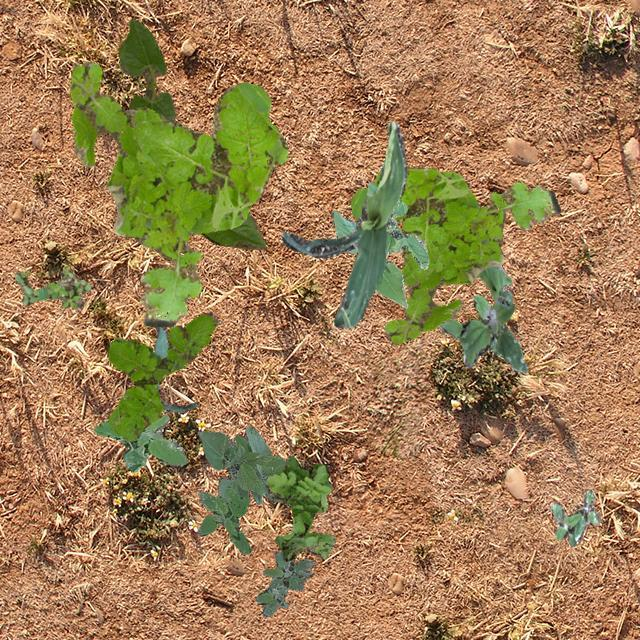crop: (282, 120, 406, 328), (330, 182, 428, 306), (197, 424, 286, 504), (118, 19, 174, 120), (152, 324, 195, 410), (200, 212, 266, 248), (476, 264, 512, 308)
weed: (68, 61, 286, 326), (350, 165, 560, 344), (108, 312, 218, 439), (264, 454, 334, 560), (438, 294, 526, 370), (94, 414, 185, 470), (254, 550, 314, 616), (197, 486, 250, 552), (15, 266, 90, 308), (550, 488, 600, 546)
